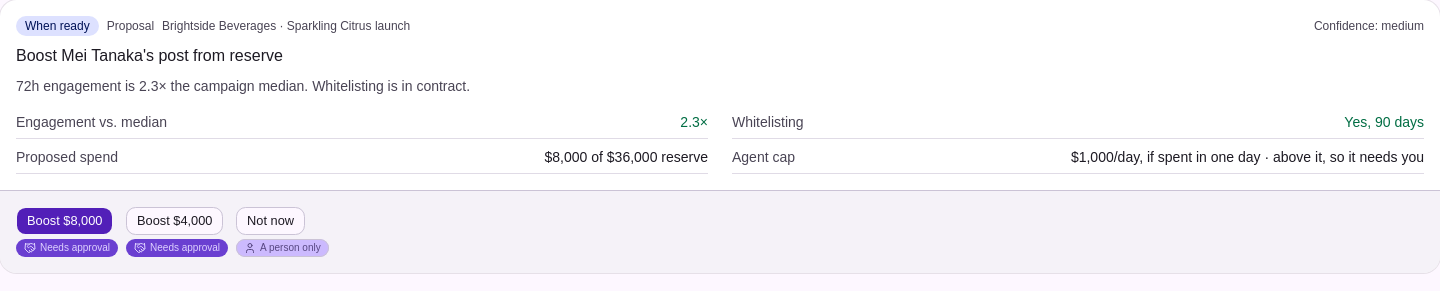
it: a card the CM resolves is never attributed to the agent
Click the button "Not now": (271, 221) [236,207,305,235]
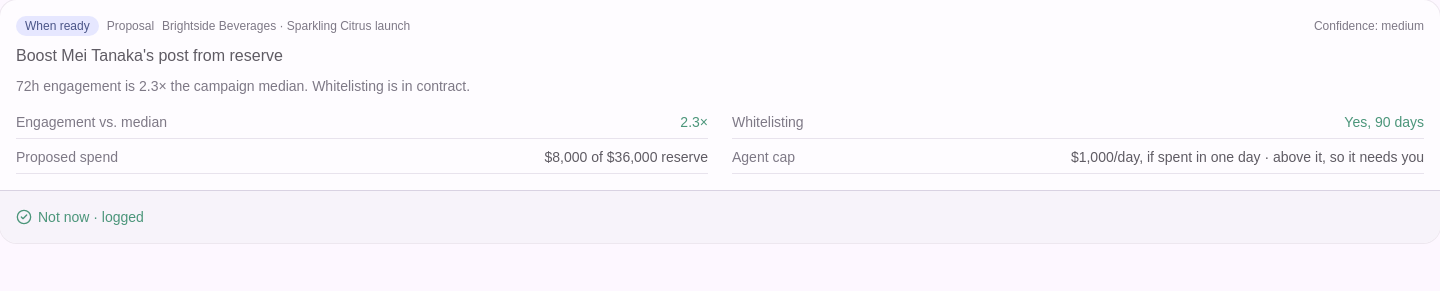
Expected: the text "Not now · logged" is shown, [16,207,144,227]
